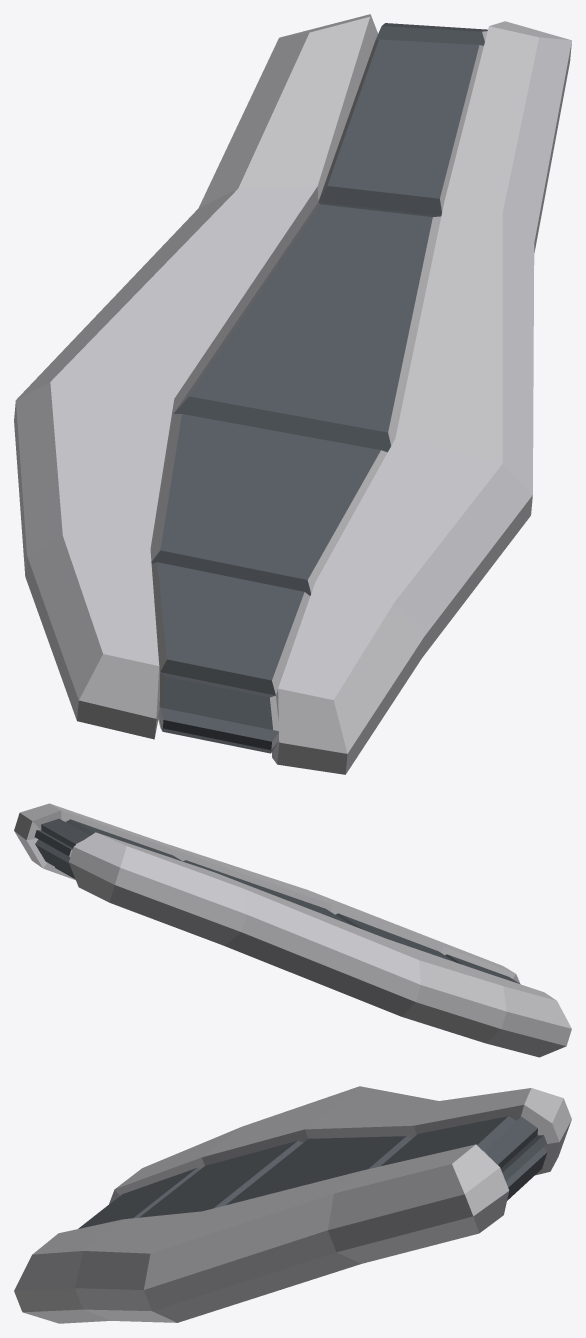
The model's file is Fighter_03_Left_Fin.fbx.
3 renders of one model, top to bottom at view 1: azimuth 30°, elevation 25°; view 2: azimuth 150°, elevation 25°; view 3: azimuth 270°, elevation 25°, orthographic. The views are drawn at different scales.
Parts seen in each view (by area): view 1: Fighter_03_Left_Fin; view 2: Fighter_03_Left_Fin; view 3: Fighter_03_Left_Fin.
Part boxes in pixels (x1=…): Fighter_03_Left_Fin: x1=14, y1=14, x2=571, y2=774; Fighter_03_Left_Fin: x1=14, y1=803, x2=571, y2=1057; Fighter_03_Left_Fin: x1=14, y1=1086, x2=571, y2=1323.
Size of the model in its own units: 393 by 239 by 347.
1 material, 1 textured.
